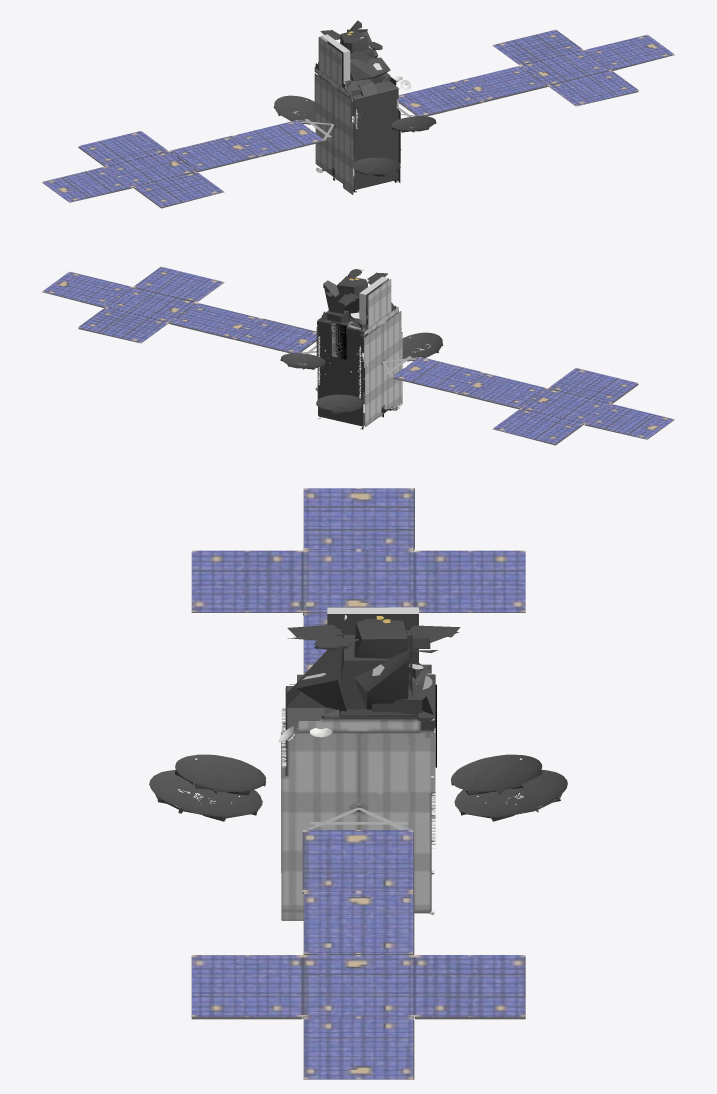
3 views of the same model, one above another, from view 1: azimuth 30°, elevation 25°; view 2: azimuth 150°, elevation 25°; view 3: azimuth 270°, elevation 25° (orthographic). The views are drawn at different scales.
Parts seen in each view (by area): view 1: Empty_Mesh; view 2: Empty_Mesh; view 3: Empty_Mesh.
Boxes of the visible parts, x1,y1,x2,y2 form: Empty_Mesh: (42, 20, 674, 208); Empty_Mesh: (42, 266, 674, 445); Empty_Mesh: (149, 488, 567, 1079).
Size of the model in its own units: 268 by 61.21 by 80.35.
Materials: 21 (2 with a texture image).
